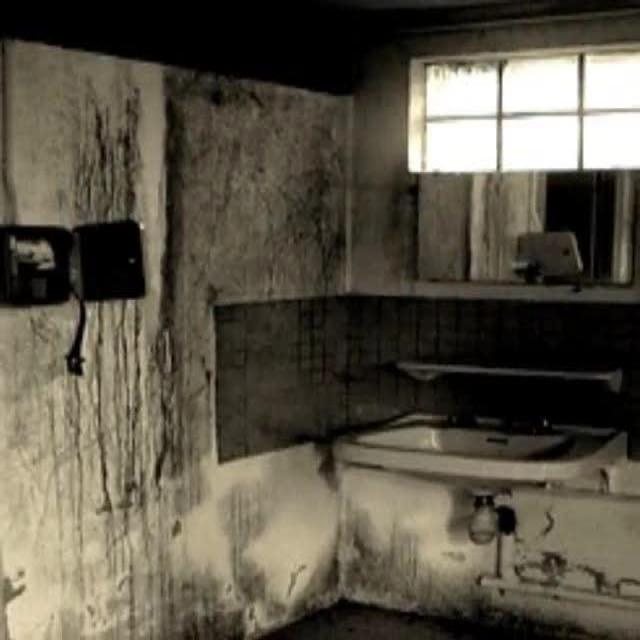other: (420, 70, 622, 160)
